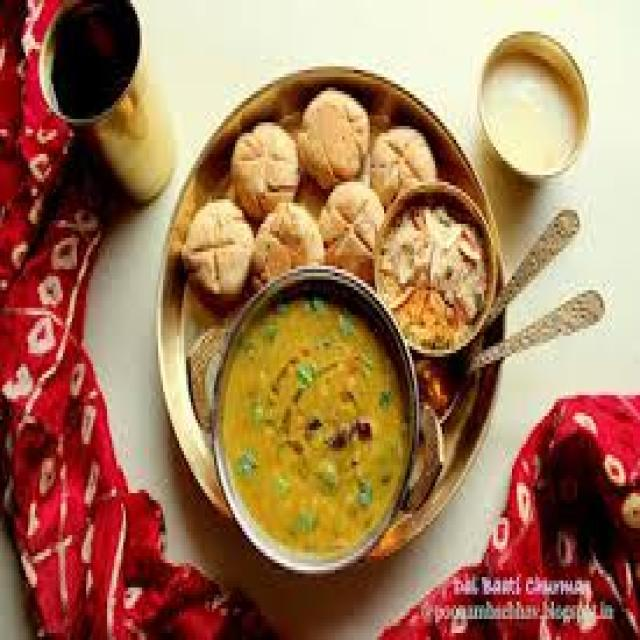dal: (223, 285, 407, 552)
rice: (375, 194, 501, 353)
